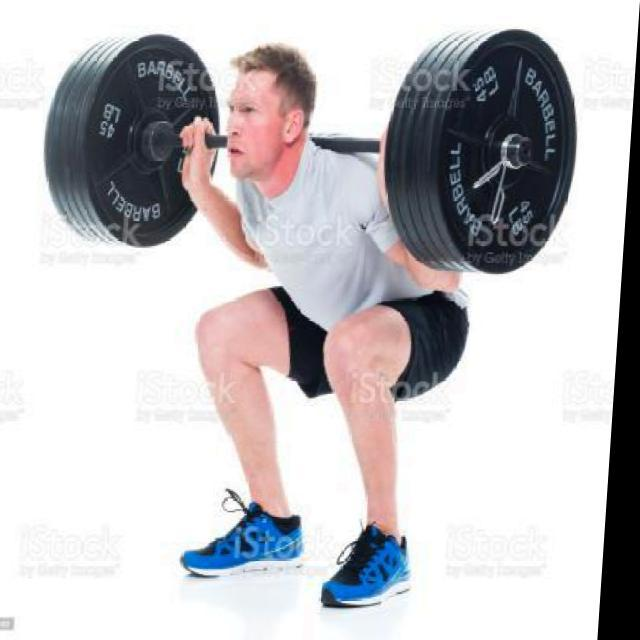barbell: (438, 28, 586, 277)
